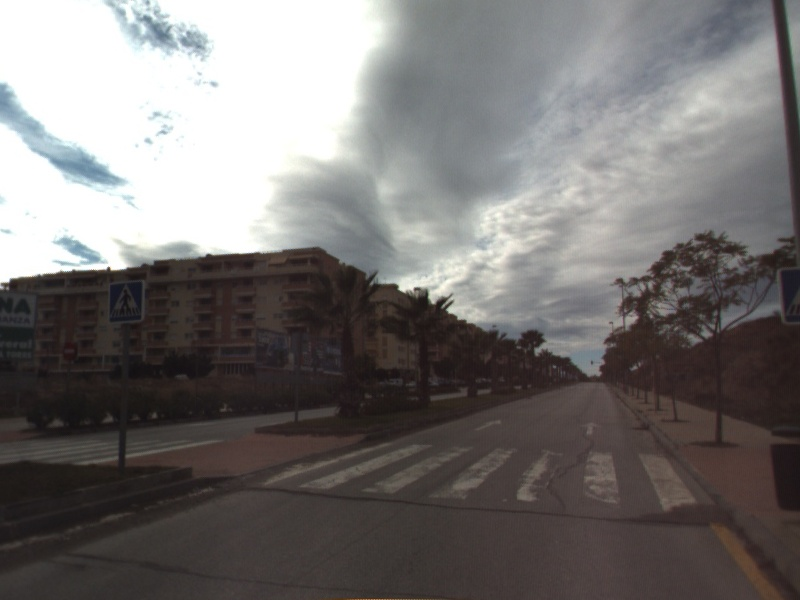STRAIGHT: (472, 417, 504, 433), (578, 419, 604, 437)
